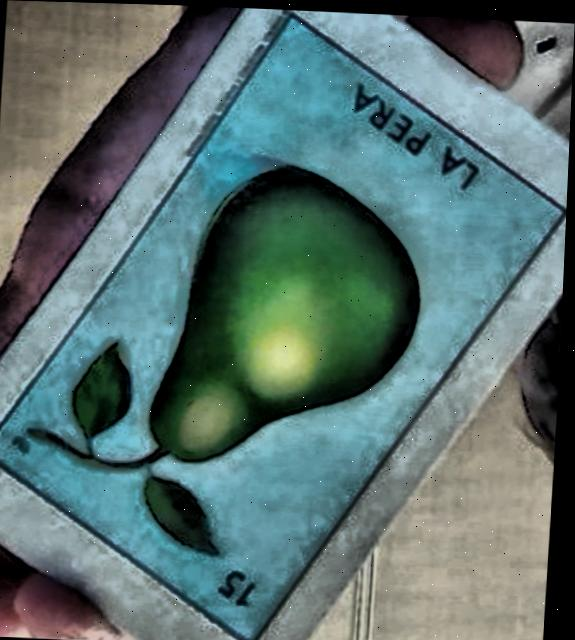La Pera: (0, 15, 563, 640)
